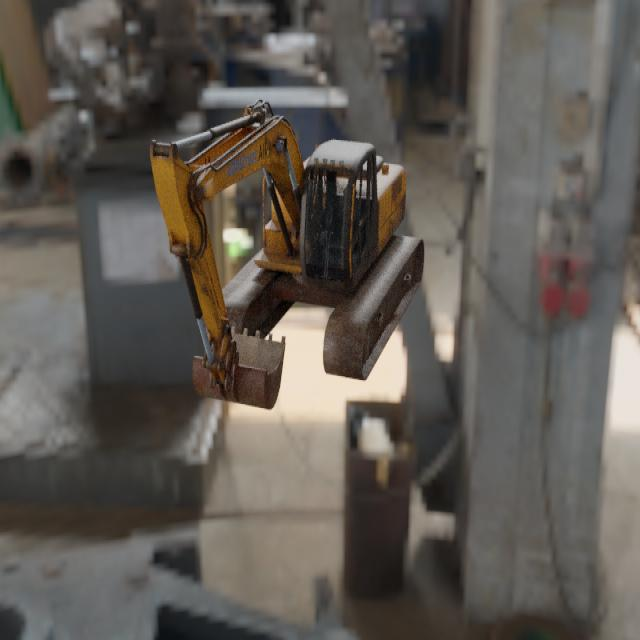excavator: (149, 97, 424, 411)
